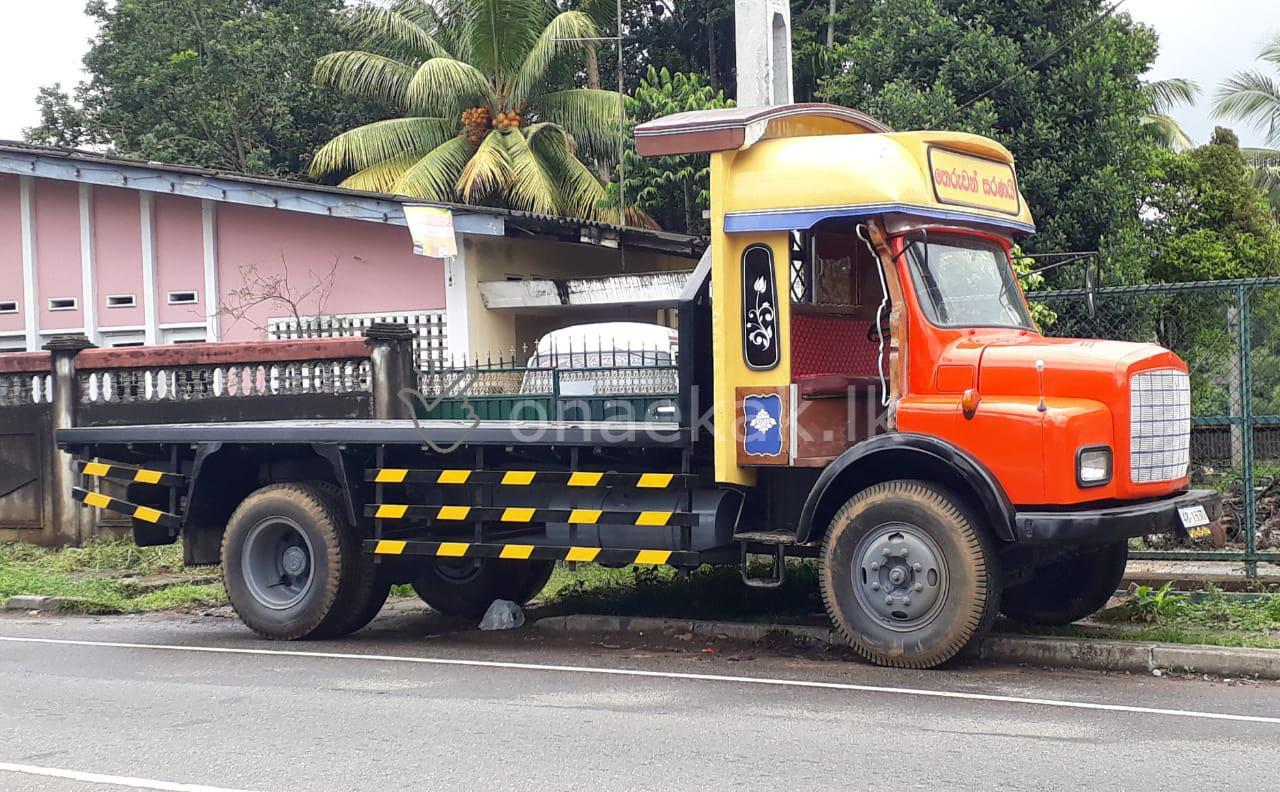truck: (54, 101, 1219, 669)
